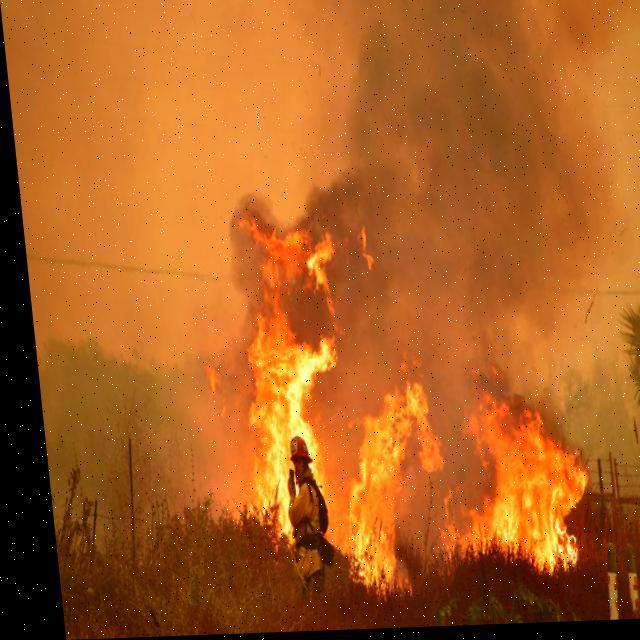Fire: (206, 221, 584, 596)
